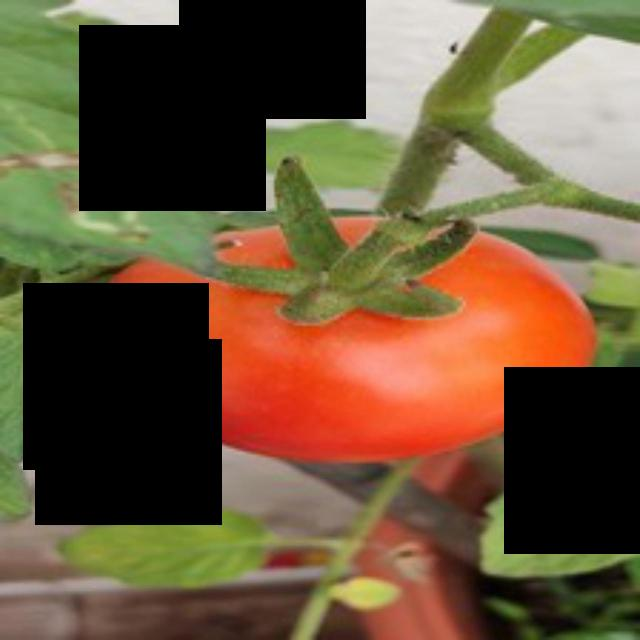tomato: (86, 191, 596, 475)
